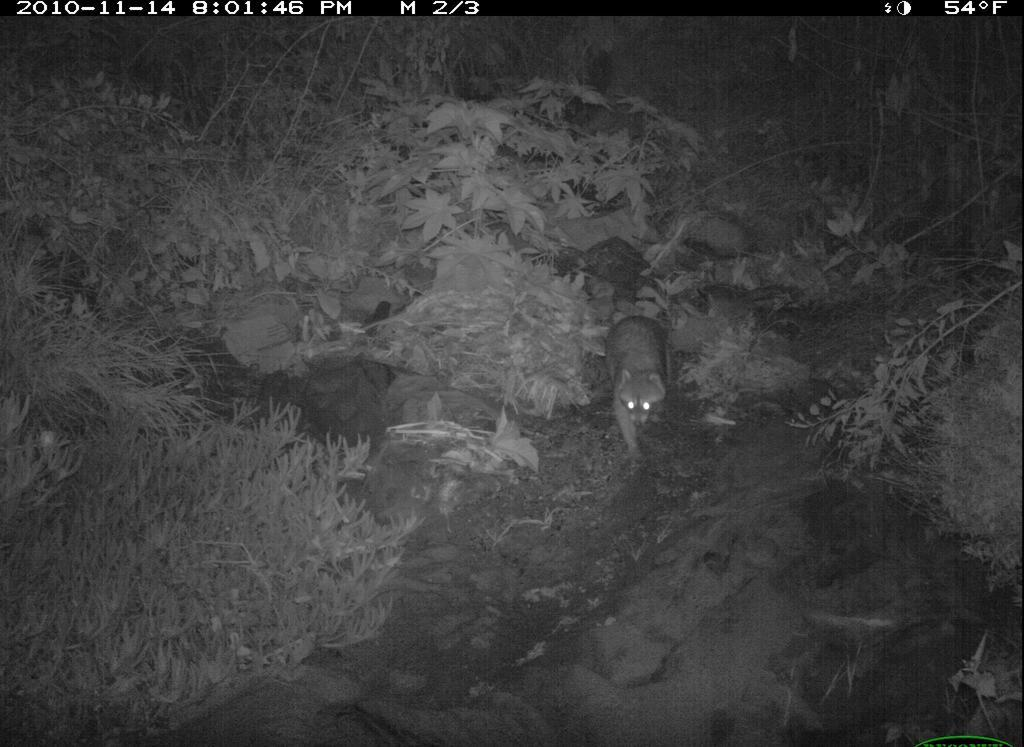raccoon: (587, 296, 692, 474)
